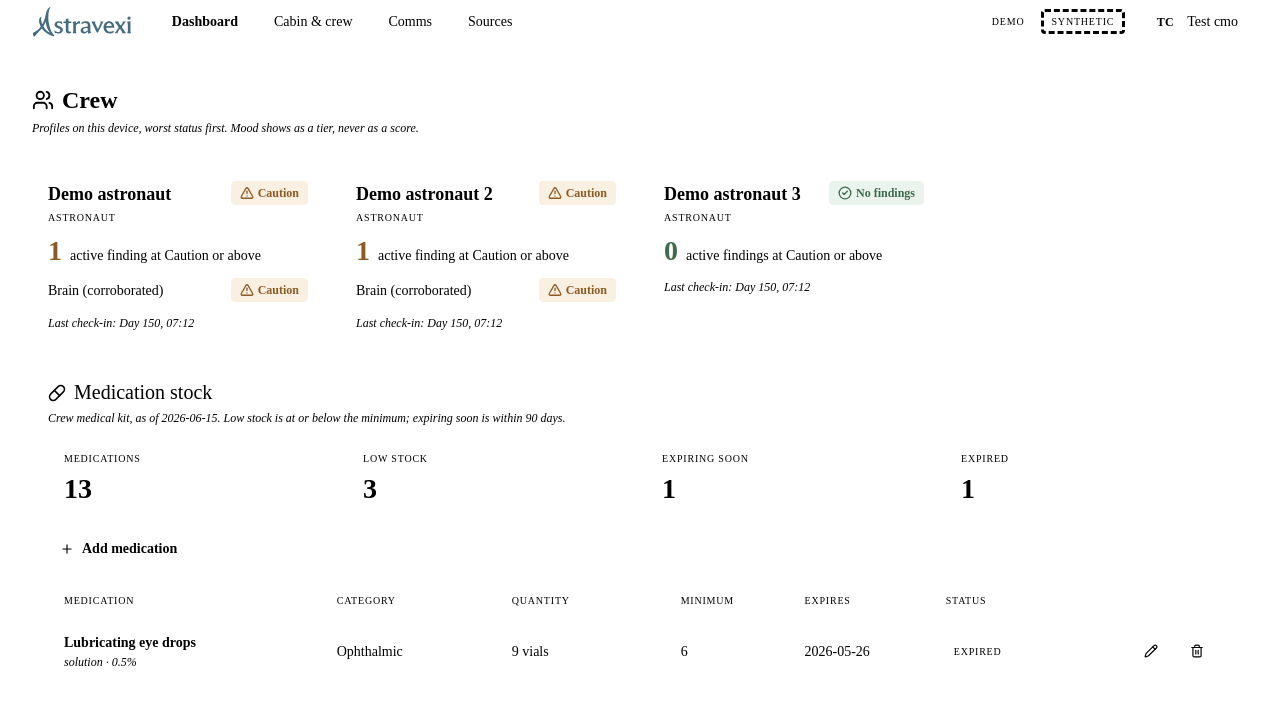
Test: cabin forecast on the Cabin & crew page › shows each enabled horizon with an interval inline on the cabin air rows, and never a disabled one
The image size is (1280, 711).
Click the button "Cabin & crew" at (313, 22), box [258,3,368,40]
(page scrolled)
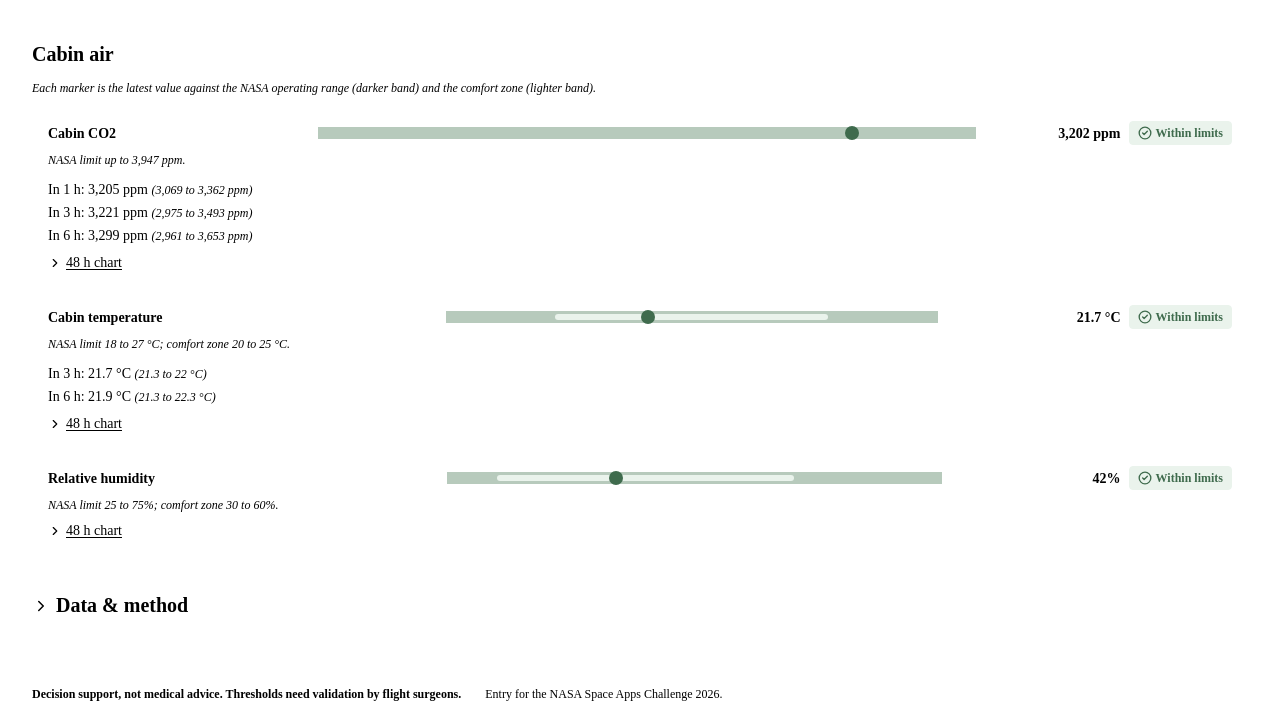
Now the list named "80% prediction interval" is shown, box [48,366,216,404]
